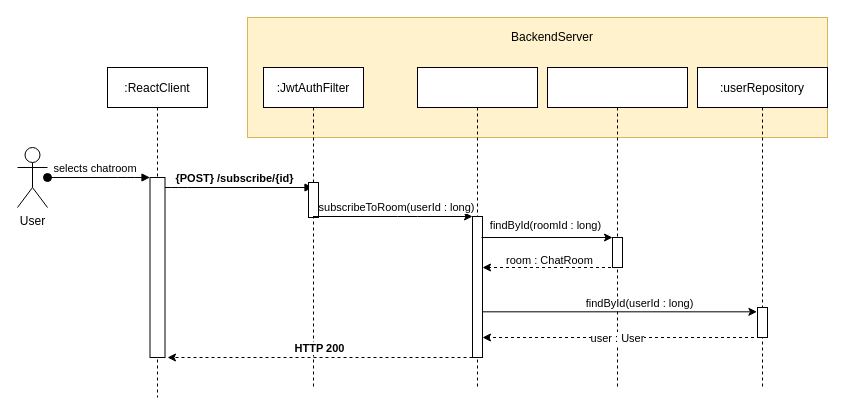
Image size: 845x415. Some labels were removed from this diagram. The shapes that lost their labels are listed below. From the top down, each one's centre as x and y in pixels, then its label:
At (x=477, y=227): ":ChatRoomController".
At (x=617, y=227): ":chatRoomRepository".
